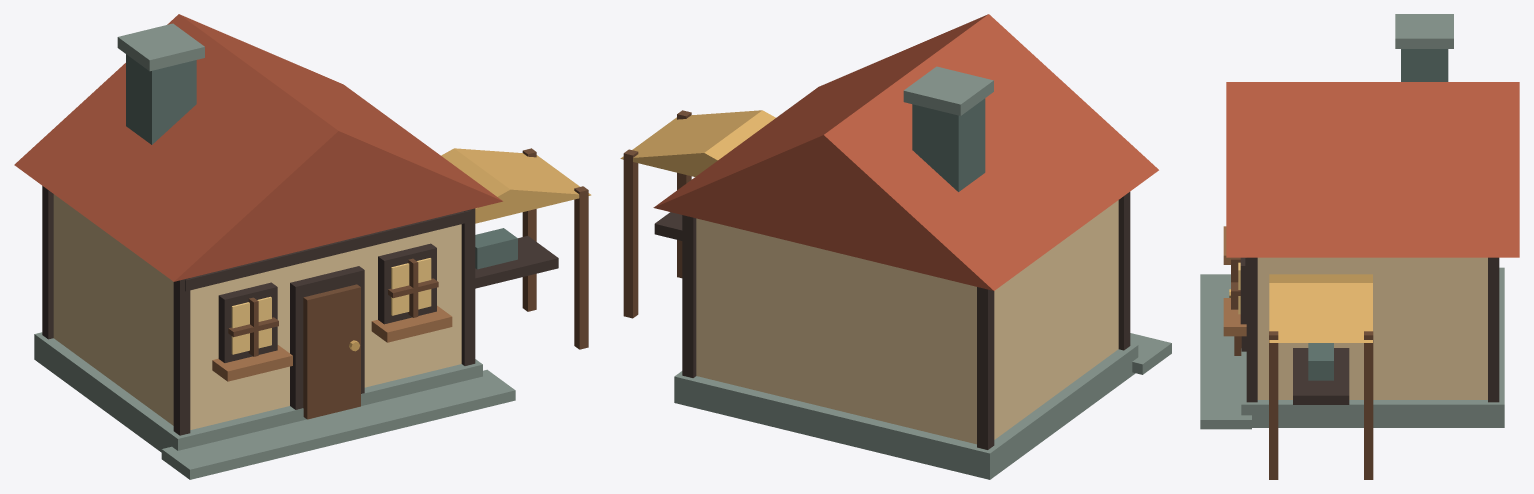
File: dilna.glb
3 renders of one model, left to right at view 1: azimuth 30°, elevation 25°; view 2: azimuth 150°, elevation 25°; view 3: azimuth 270°, elevation 25°, orthographic. The views are drawn at different scales.
Parts seen in each view (by area): view 1: material_b95e42, material_f2d5a5, material_8b9b92, material_483b36, material_785239, material_667b75, material_e5b66a, material_ad7950, material_ffd68a; view 2: material_b95e42, material_f2d5a5, material_8b9b92, material_483b36, material_e5b66a, material_667b75, material_785239; view 3: material_b95e42, material_f2d5a5, material_8b9b92, material_e5b66a, material_483b36, material_785239, material_667b75, material_ad7950.
Part boxes in pixels (x1=…): material_b95e42: x1=14, y1=14, x2=502, y2=281; material_f2d5a5: x1=53, y1=194, x2=461, y2=429; material_8b9b92: x1=34, y1=23, x2=515, y2=479; material_483b36: x1=42, y1=186, x2=558, y2=435; material_785239: x1=228, y1=148, x2=588, y2=419; material_667b75: x1=126, y1=54, x2=517, y2=269; material_e5b66a: x1=349, y1=148, x2=591, y2=351; material_ad7950: x1=212, y1=305, x2=452, y2=381; material_ffd68a: x1=231, y1=258, x2=431, y2=354; material_b95e42: x1=653, y1=14, x2=1158, y2=290; material_f2d5a5: x1=696, y1=200, x2=1118, y2=444; material_8b9b92: x1=674, y1=66, x2=1171, y2=479; material_483b36: x1=654, y1=192, x2=1130, y2=449; material_e5b66a: x1=620, y1=110, x2=775, y2=176; material_667b75: x1=912, y1=98, x2=985, y2=191; material_785239: x1=623, y1=110, x2=691, y2=318; material_b95e42: x1=1226, y1=82, x2=1519, y2=257; material_f2d5a5: x1=1257, y1=257, x2=1487, y2=399; material_8b9b92: x1=1200, y1=14, x2=1504, y2=429; material_e5b66a: x1=1229, y1=274, x2=1372, y2=342; material_483b36: x1=1240, y1=257, x2=1499, y2=404; material_785239: x1=1231, y1=257, x2=1373, y2=479; material_667b75: x1=1308, y1=49, x2=1448, y2=380; material_ad7950: x1=1223, y1=226, x2=1246, y2=336.
Bounding box in the file's own units: 5.43 × 3.87 × 3.7.
